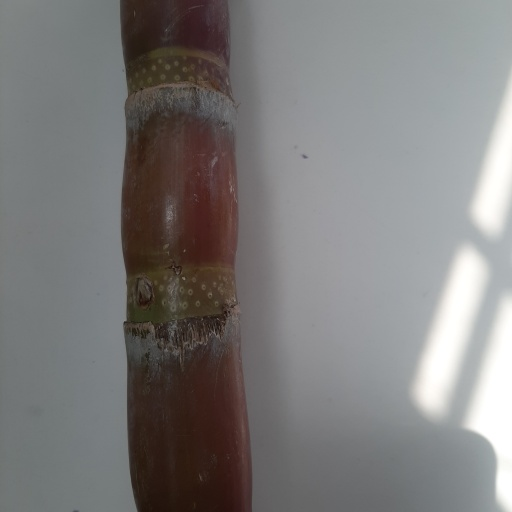Bud: (132, 276, 153, 308)
